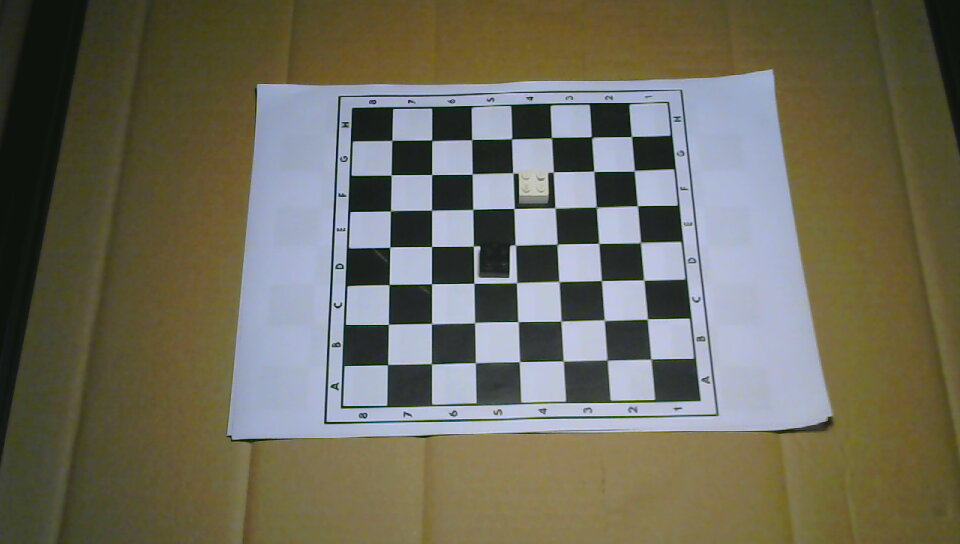bp: (479, 242, 510, 277)
wp: (517, 168, 549, 204)
